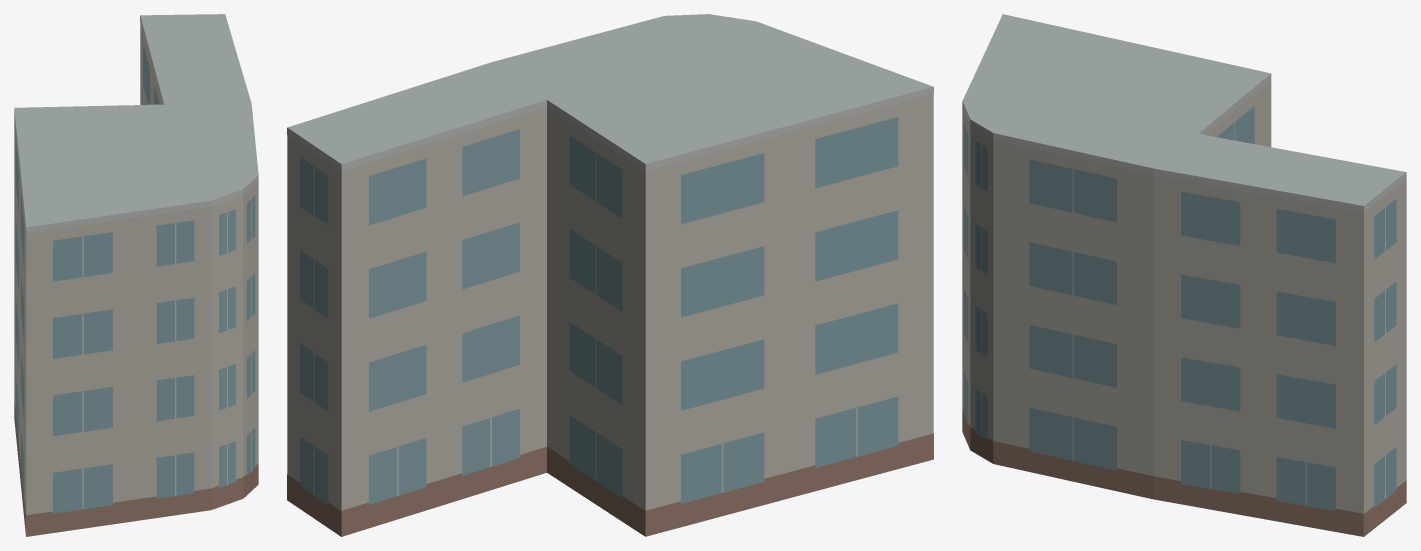
The model's file is residential-a4688c90-1766-4cb2-8f47-84ec6bdf4aaf.glb.
The picture shows the model from 3 angles, left to right: view 1: azimuth 30°, elevation 25°; view 2: azimuth 150°, elevation 25°; view 3: azimuth 270°, elevation 25°; orthographic projection. The views are drawn at different scales.
Visible parts, largest first — view 1: residential-a4688c90-1766-4cb2-8f47-84ec6bdf4aaf.tmp; view 2: residential-a4688c90-1766-4cb2-8f47-84ec6bdf4aaf.tmp; view 3: residential-a4688c90-1766-4cb2-8f47-84ec6bdf4aaf.tmp.
Part boxes in pixels (<box>): residential-a4688c90-1766-4cb2-8f47-84ec6bdf4aaf.tmp: <box>14,14,258,536</box>; residential-a4688c90-1766-4cb2-8f47-84ec6bdf4aaf.tmp: <box>287,14,933,536</box>; residential-a4688c90-1766-4cb2-8f47-84ec6bdf4aaf.tmp: <box>962,14,1406,536</box>.
Bounding box in the file's own units: 15.19 × 12.2 × 14.85.
